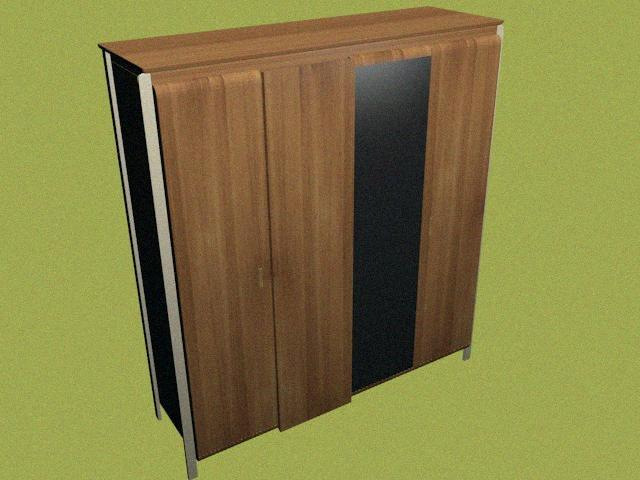cabinet_door: (176, 77, 272, 442), (272, 62, 354, 409), (354, 50, 423, 381), (423, 39, 486, 356)
